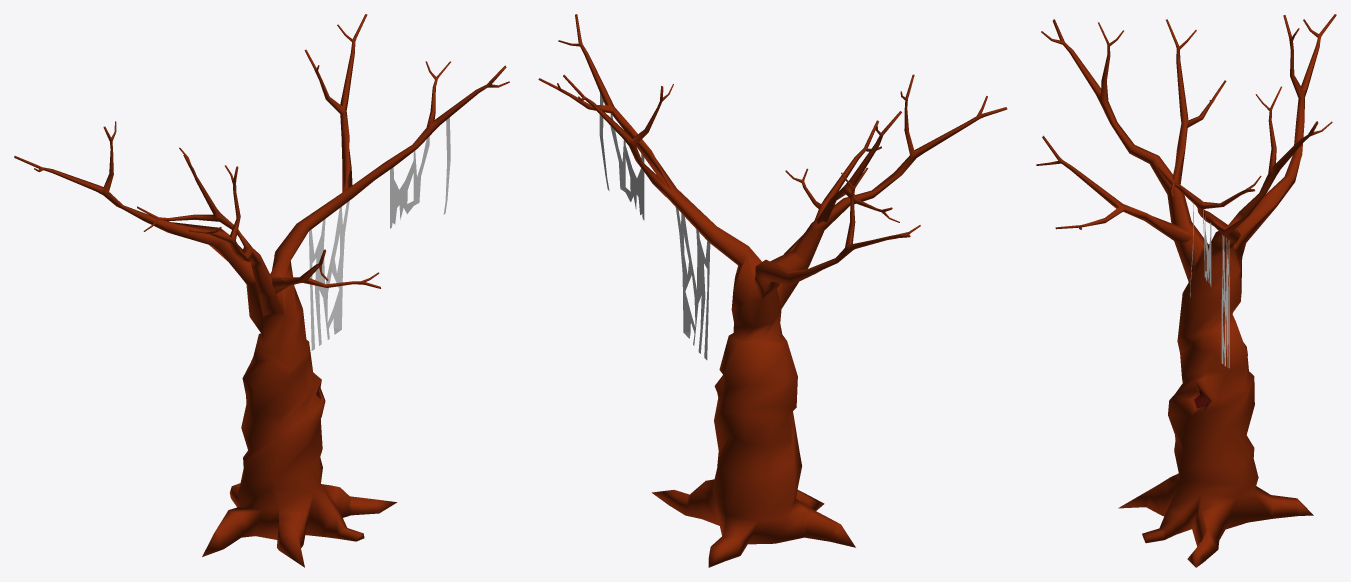
The model's file is HWN20_SpiderTree_01.glb.
3 views of the same model, side by side, from view 1: azimuth 30°, elevation 25°; view 2: azimuth 150°, elevation 25°; view 3: azimuth 270°, elevation 25° (orthographic). The views are drawn at different scales.
Parts seen in each view (by area): view 1: HWN20_SpiderTree_01; view 2: HWN20_SpiderTree_01; view 3: HWN20_SpiderTree_01.
Part boxes in pixels (x1,y1,x2,y2): HWN20_SpiderTree_01: (14, 14, 509, 567); HWN20_SpiderTree_01: (538, 14, 1007, 567); HWN20_SpiderTree_01: (1036, 14, 1336, 567).
Bounding box in the file's own units: 4.52 × 4.61 × 2.69.
1 material, 1 textured.
